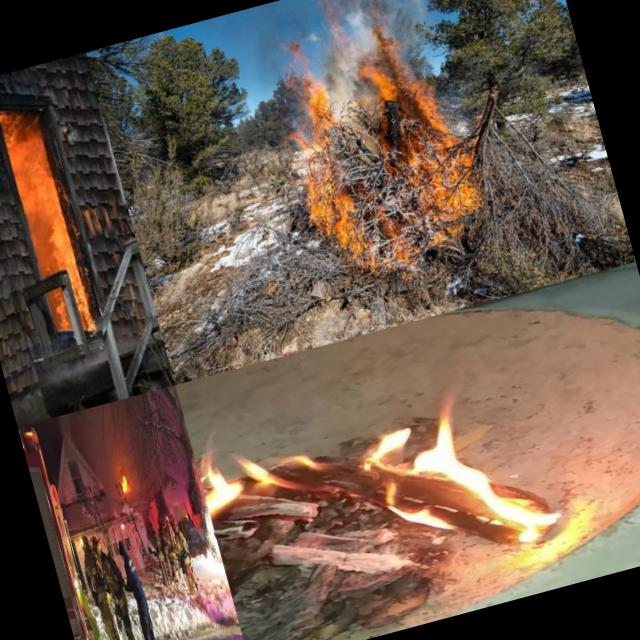fire: (190, 357, 562, 620), (368, 56, 482, 232), (0, 105, 77, 279), (292, 162, 376, 284), (372, 224, 462, 287), (276, 80, 344, 160), (64, 270, 100, 342), (278, 34, 318, 89), (48, 282, 76, 338), (116, 469, 132, 495)
smoke: (309, 0, 440, 83), (200, 0, 321, 70), (329, 75, 388, 163)
